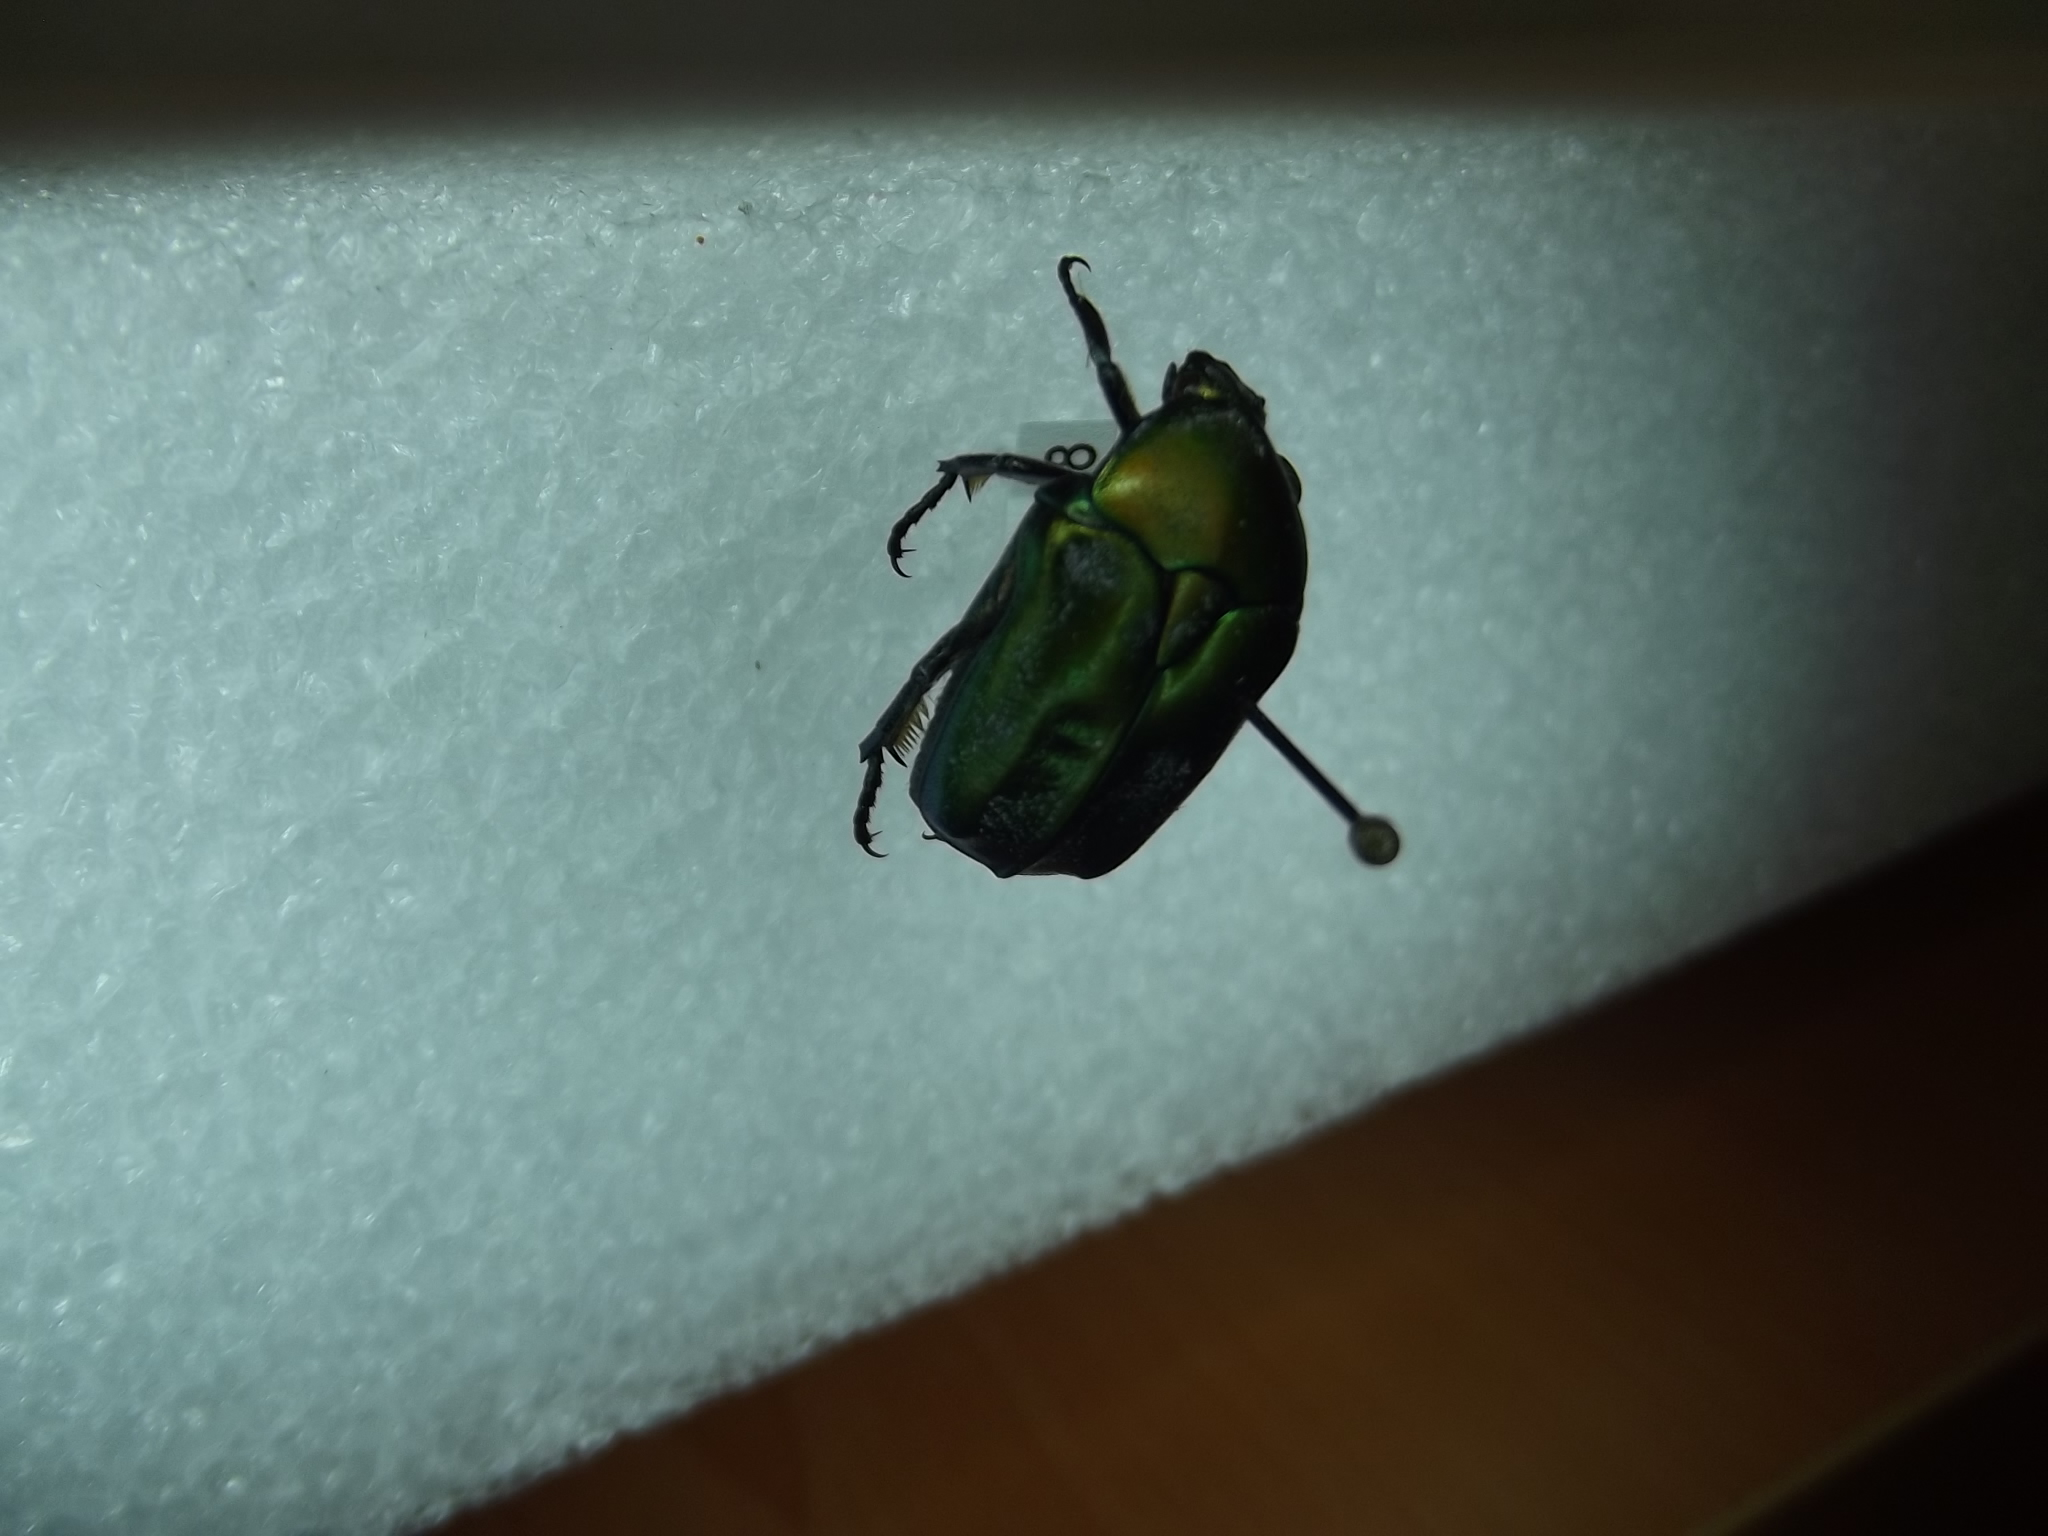Protaetia_cuprea_ignicollis: (829, 232, 1329, 900)
